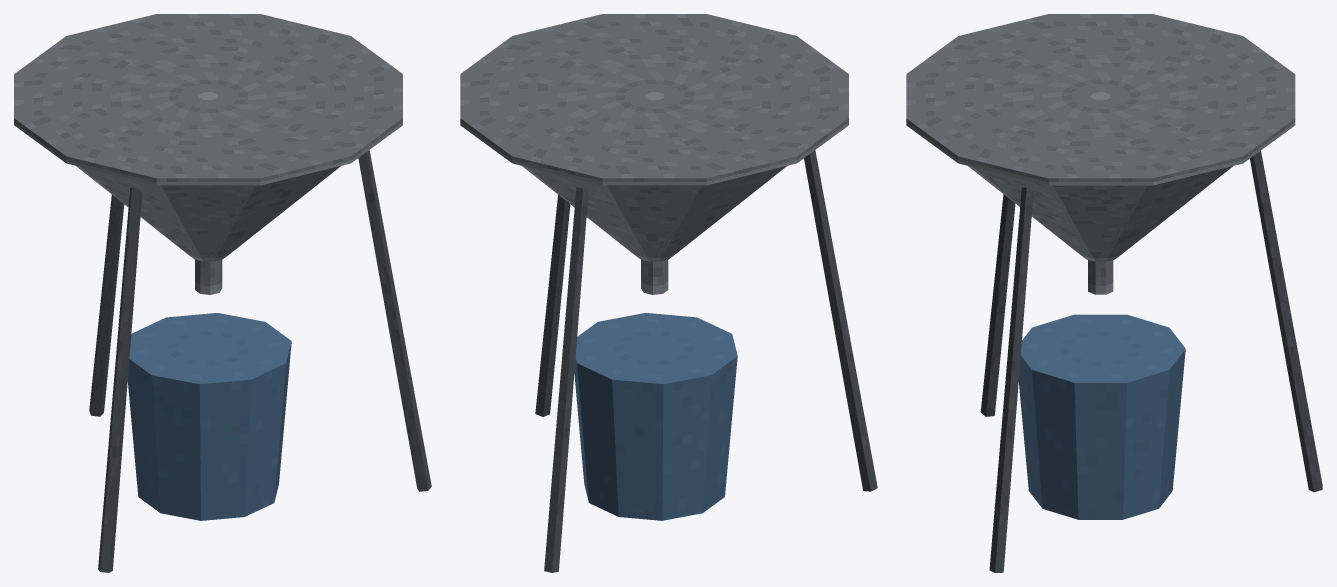
The model's file is tr_metal_funnel.glb.
The picture shows the model from 3 angles, left to right: view 1: azimuth 30°, elevation 25°; view 2: azimuth 150°, elevation 25°; view 3: azimuth 270°, elevation 25°; orthographic projection.
Parts seen in each view (by area): view 1: block_funnel rim, block_bucket, block_leg (×3), block_funnel, block_spout; view 2: block_funnel rim, block_bucket, block_leg (×3), block_funnel, block_spout; view 3: block_funnel rim, block_bucket, block_leg (×3), block_funnel, block_spout.
Part boxes in pixels (x1,y1,x2,y2): block_funnel rim: (14,14,402,185); block_bucket: (127,313,291,520); block_leg (×3): (89,150,431,572); block_funnel: (76,166,340,261); block_spout: (195,259,222,294); block_funnel rim: (460,14,848,185); block_bucket: (574,313,737,520); block_leg (×3): (535,150,877,572); block_funnel: (522,166,786,261); block_spout: (641,259,668,294); block_funnel rim: (906,14,1295,185); block_bucket: (1018,314,1185,519); block_leg (×3): (980,151,1322,572); block_funnel: (968,166,1232,261); block_spout: (1088,260,1113,294).
Size of the model in its own units: 0.5984 by 0.6679 by 0.637.
Materials: 1 (1 with a texture image).
